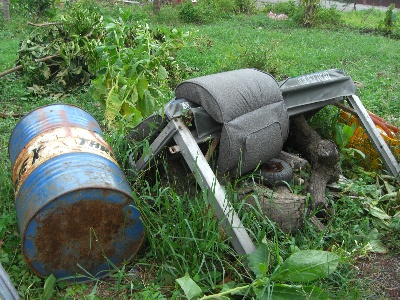bucket: (8, 103, 146, 281)
tire: (255, 157, 294, 186)
